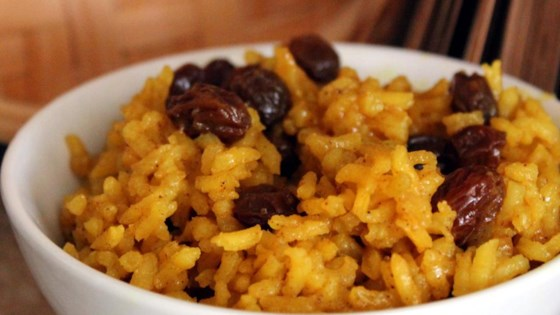plain rice: (151, 154, 424, 283)
